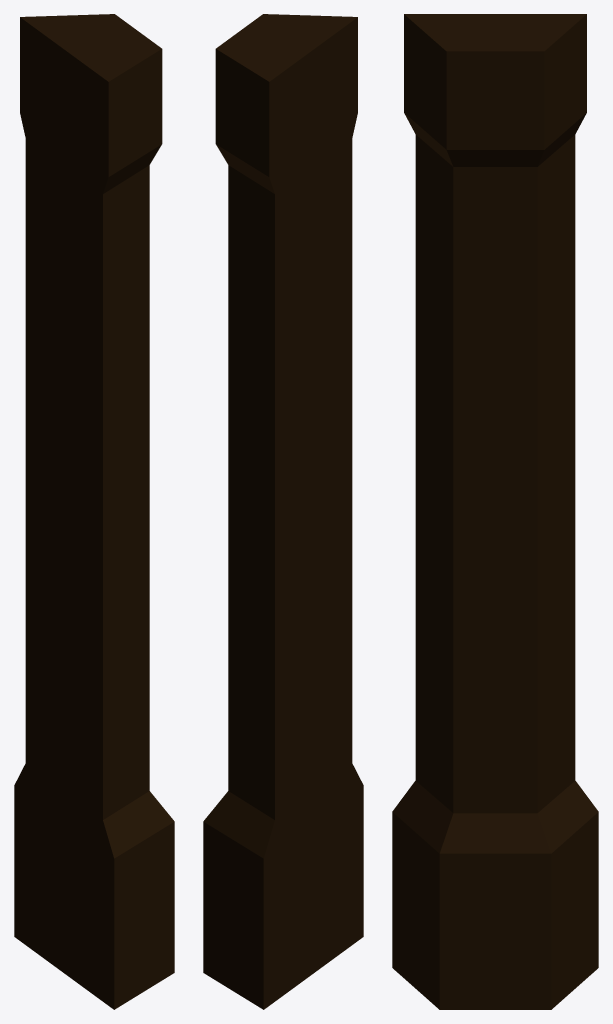
The model's file is Pillar 2nd 3rd Floor.obj.
3 renders of one model, left to right at view 1: azimuth 30°, elevation 25°; view 2: azimuth 150°, elevation 25°; view 3: azimuth 270°, elevation 25°, orthographic. The views are drawn at different scales.
Visible parts, largest first — view 1: Pillar_3rd_Floor_007; view 2: Pillar_3rd_Floor_007; view 3: Pillar_3rd_Floor_007.
Boxes of the visible parts, box(x1,y1,x2,y2) form: Pillar_3rd_Floor_007: box(14, 14, 174, 1009); Pillar_3rd_Floor_007: box(203, 14, 363, 1009); Pillar_3rd_Floor_007: box(392, 14, 598, 1009).
Bounding box in the file's own units: 5773 × 61071 × 11977.
